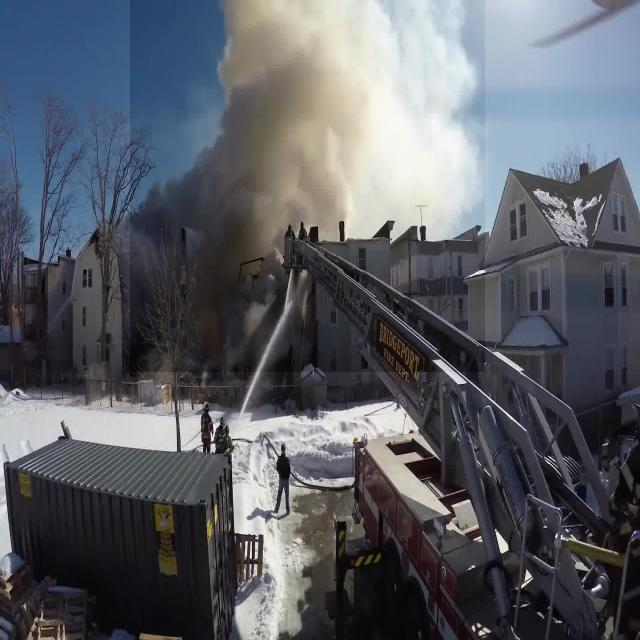Smoke: (130, 0, 485, 372)
